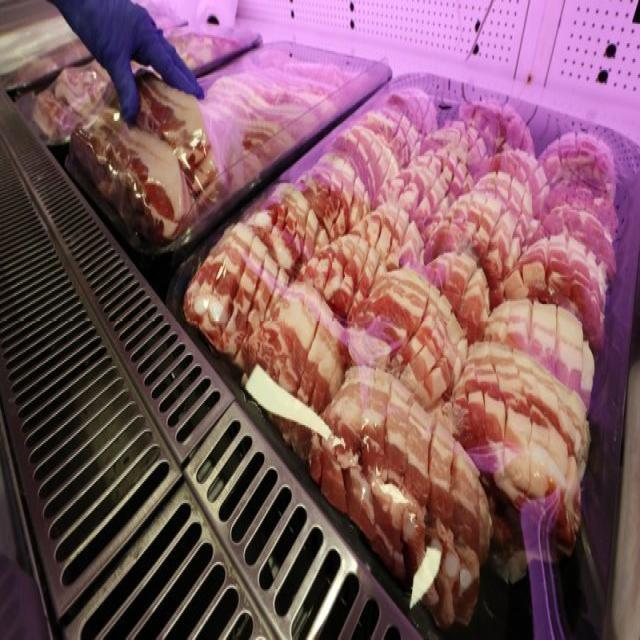pork: (229, 105, 620, 583), (80, 44, 330, 203)
